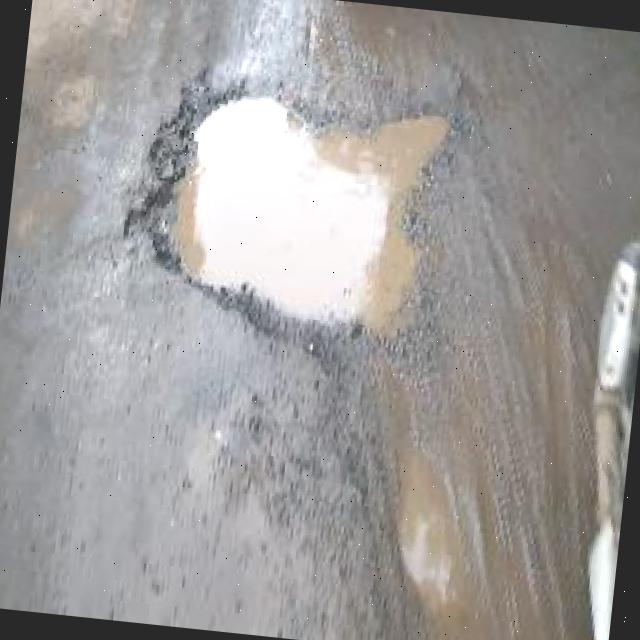stagnation: (140, 73, 469, 341)
